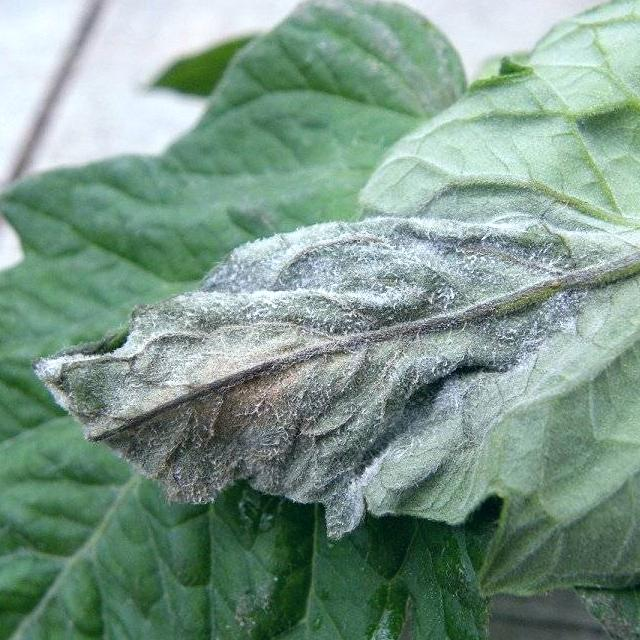Tomato leaf late blight: (21, 2, 640, 598)
